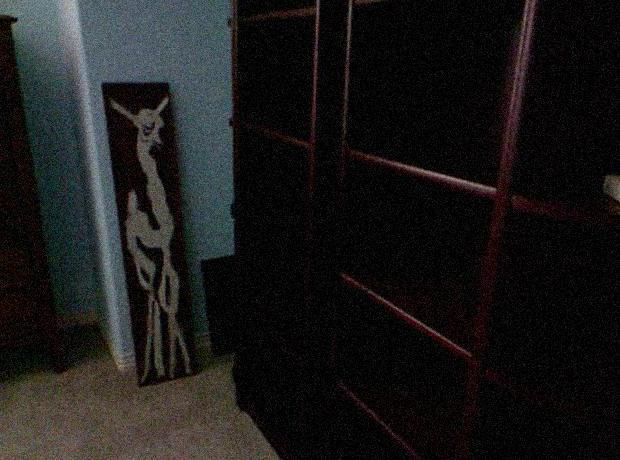Armario: (229, 5, 615, 454)
